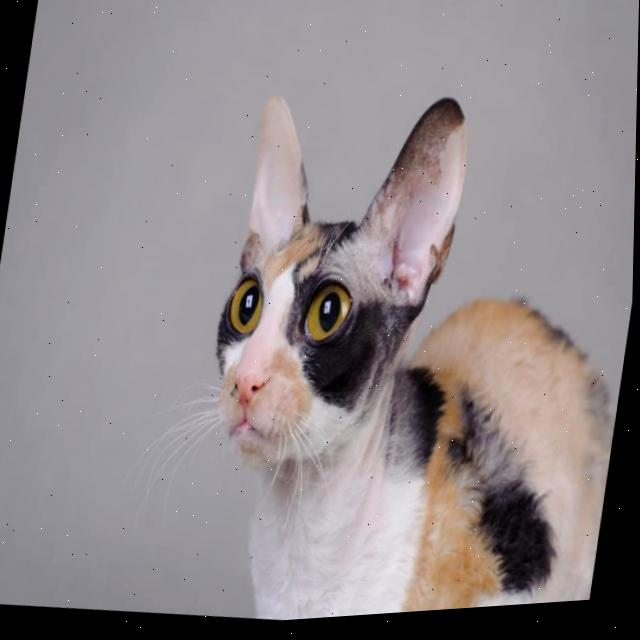Cornish Rex: (174, 62, 638, 630)
